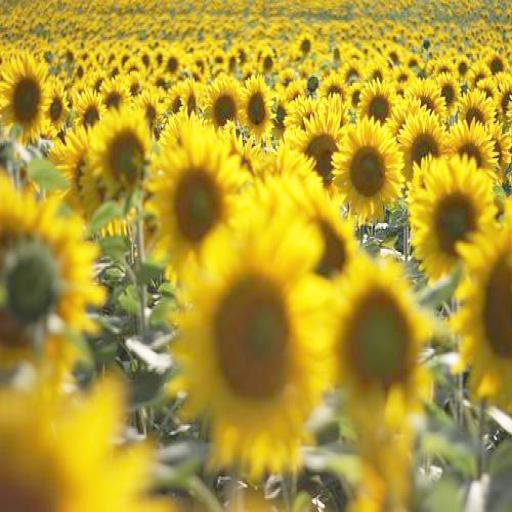sunflower: (329, 261, 432, 437), (152, 120, 246, 264), (410, 155, 494, 277), (332, 118, 400, 224), (286, 106, 351, 211), (89, 112, 154, 194), (201, 78, 250, 144), (244, 77, 276, 143), (358, 76, 400, 122), (434, 72, 462, 114)
